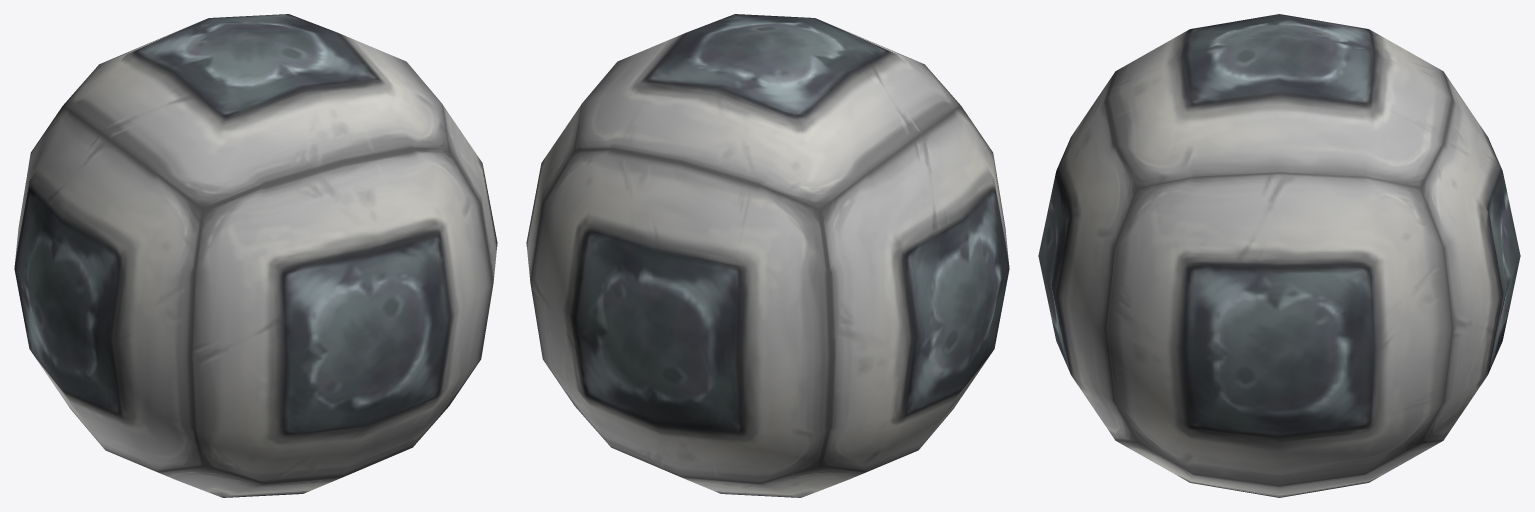
Rendered from ball_03.fbx.
The picture shows the model from 3 angles, left to right: view 1: azimuth 30°, elevation 25°; view 2: azimuth 150°, elevation 25°; view 3: azimuth 270°, elevation 25°; orthographic projection.
Visible parts, largest first — view 1: ball_03; view 2: ball_03; view 3: ball_03.
Part boxes in pixels (bbox=[...]): ball_03: bbox=[14, 14, 497, 497]; ball_03: bbox=[526, 14, 1009, 497]; ball_03: bbox=[1038, 14, 1520, 497].
Size of the model in its own units: 43.15 by 43.15 by 43.15.
